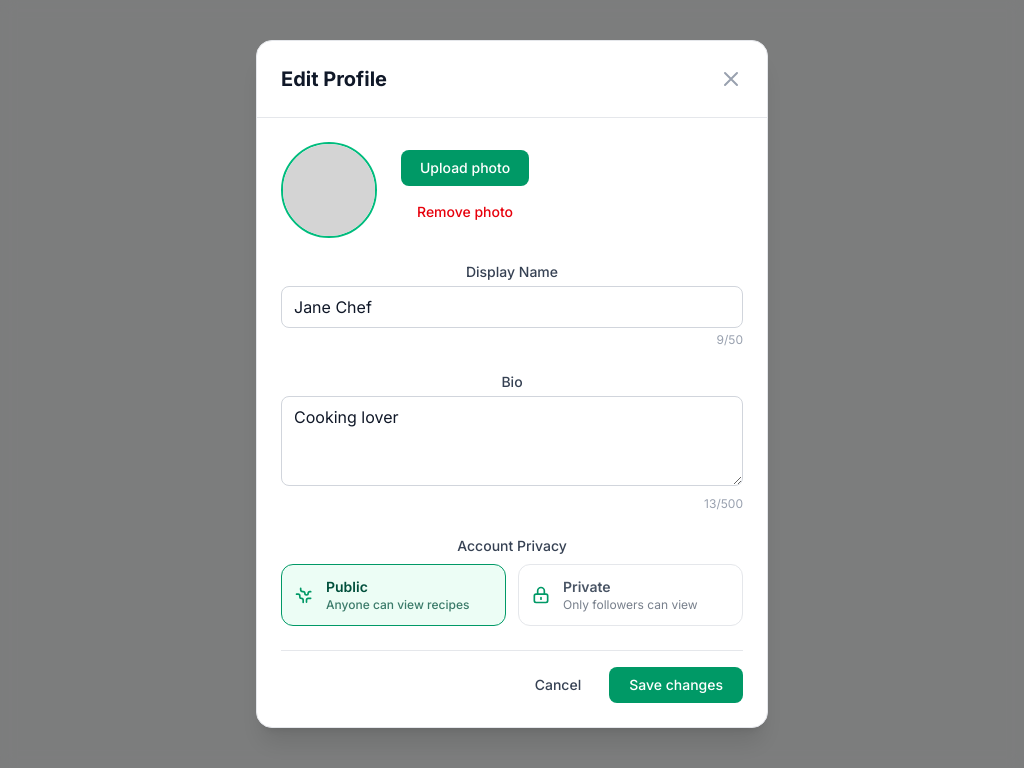
Test: ProfileSettingsModal › handles avatar removal
Click the button "Remove photo" at (465, 212), box [401,194,529,230]
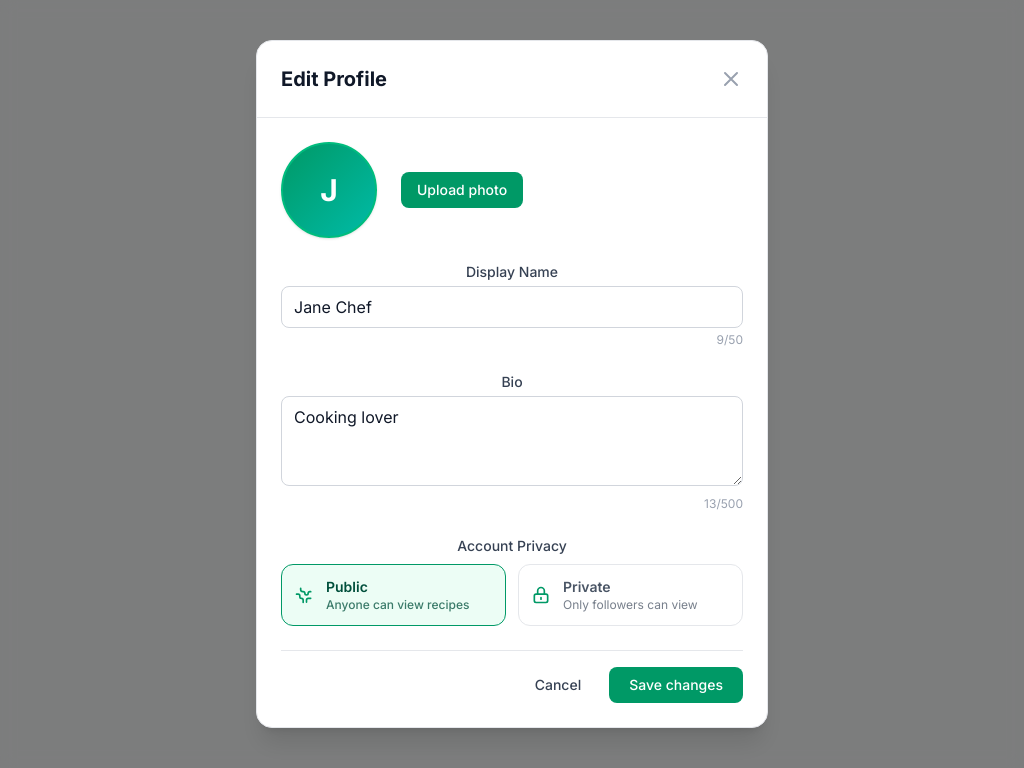
Expected: the button "Remove photo" is gone
